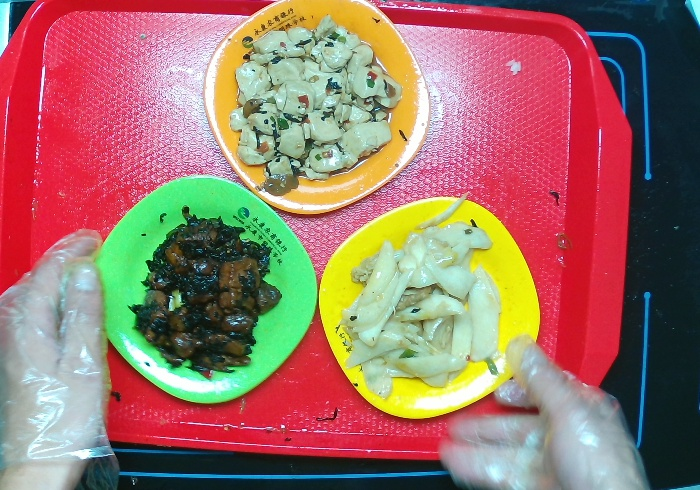YKMZ-Huang_Se_Fang_Die: (313, 189, 549, 426)
YKMZ-Ju_Se_Fang_Die: (193, 1, 437, 219)
YKMZ-Lv_Se_Fang_Die: (97, 169, 324, 407)
